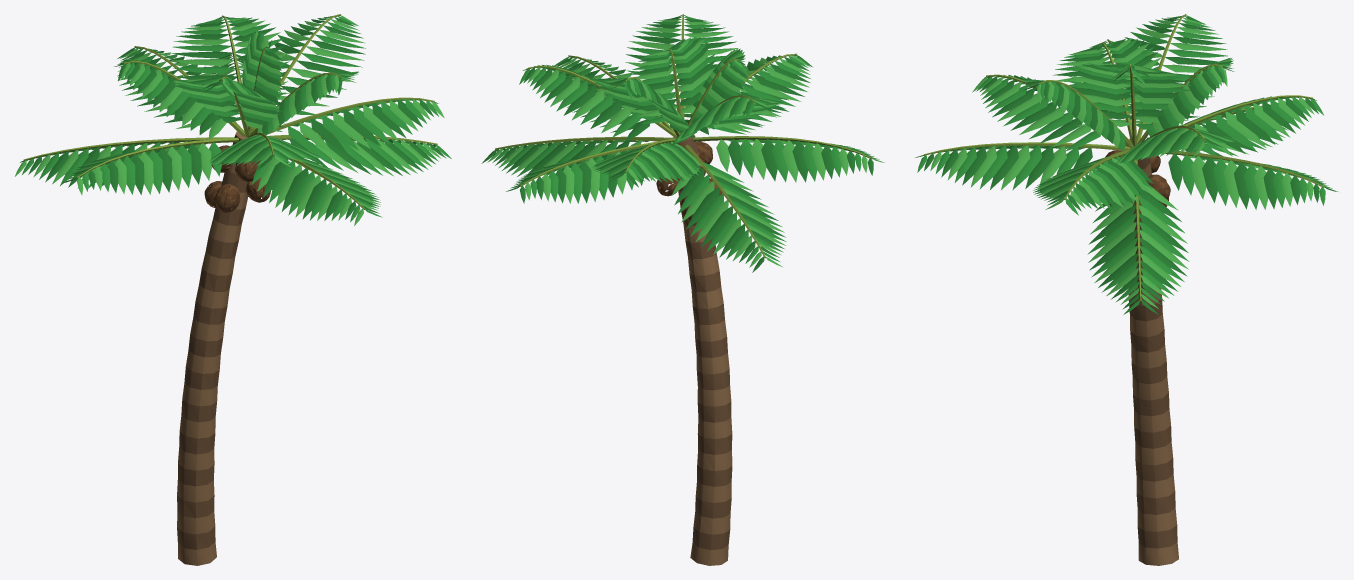
3 renders of one model, left to right at view 1: azimuth 30°, elevation 25°; view 2: azimuth 150°, elevation 25°; view 3: azimuth 270°, elevation 25°, orthographic. The views are drawn at different scales.
Visible parts, largest first — view 1: body; view 2: body; view 3: body.
Boxes of the visible parts, bbox=[...] form: body: bbox=[15, 14, 451, 565]; body: bbox=[481, 14, 884, 565]; body: bbox=[915, 14, 1337, 565].
Size of the model in its own units: 4.95 by 6.14 by 4.52.
Materials: 1 (1 with a texture image).
